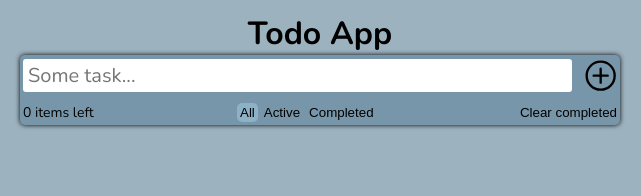
Tests › Add and delete todo item
Type "test" into the search field with placeholder "Some task...". click: (298, 76)
box: [23, 59, 572, 92]
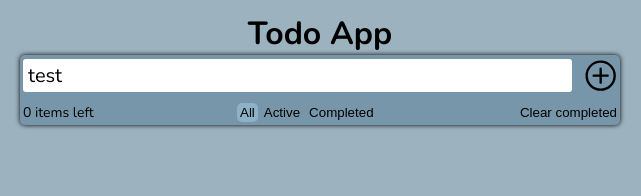
Click the button with test id "addbtn". click: (600, 76)
box: [582, 56, 617, 94]
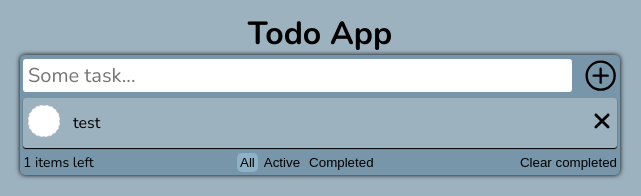
Now the element with test id "todoitem" is shown, box [23, 98, 617, 148]
Click the button with test id "deleteTodoitem". click: (602, 123)
box: [592, 111, 612, 134]
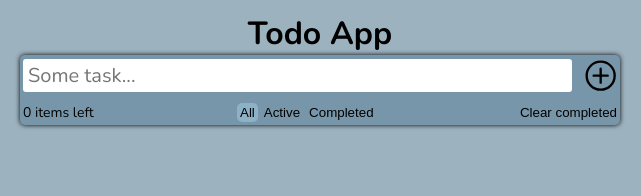
Now the element with test id "todoitem" is gone
